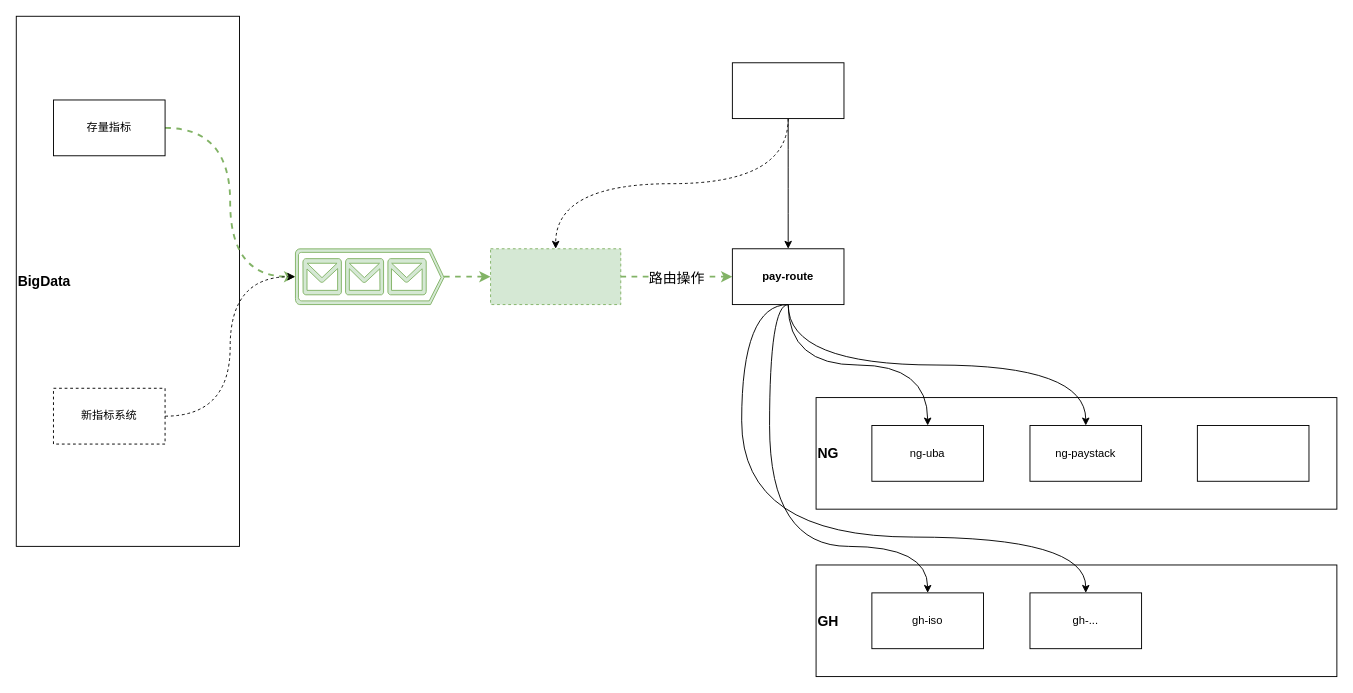
Some shapes in this 1353 by 693 pixel diagram are drawn without their labels. The shapes that lost their labels are listed below. From the top down, each one's centre as x and y in pixels, then its label:
pixel 787 90: pay-core
pixel 369 276: paynet-qeue
pixel 555 276: paynet-switch-center
pixel 1252 453: ng-...
